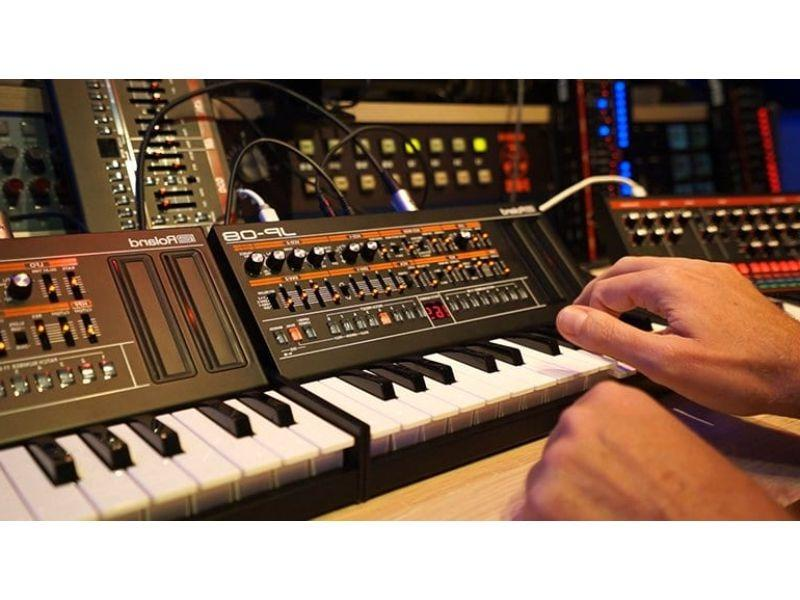synthesizer: (245, 222, 593, 424), (12, 229, 216, 509)
